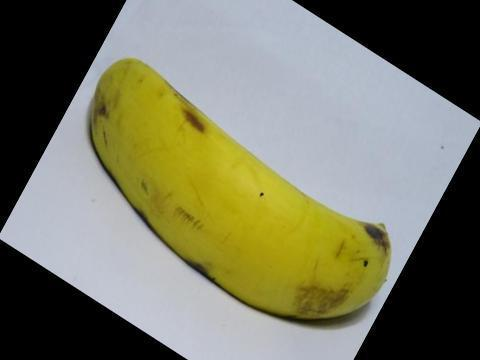freshripe: (80, 49, 410, 340)
